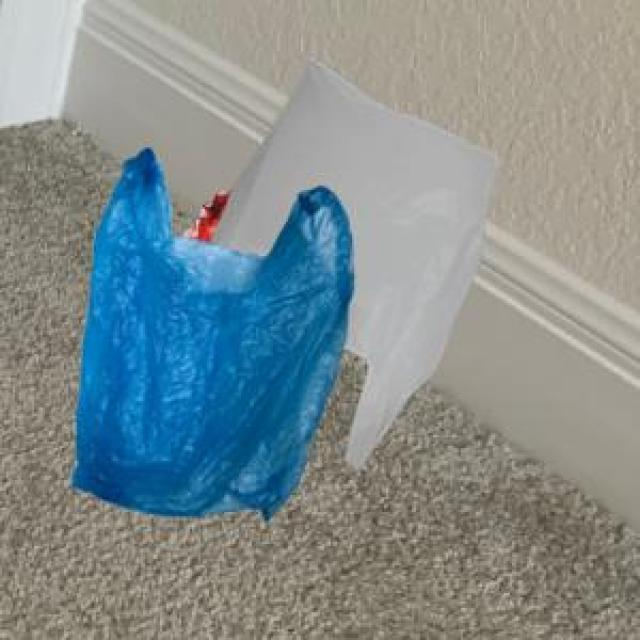plastic: (59, 64, 485, 526)
